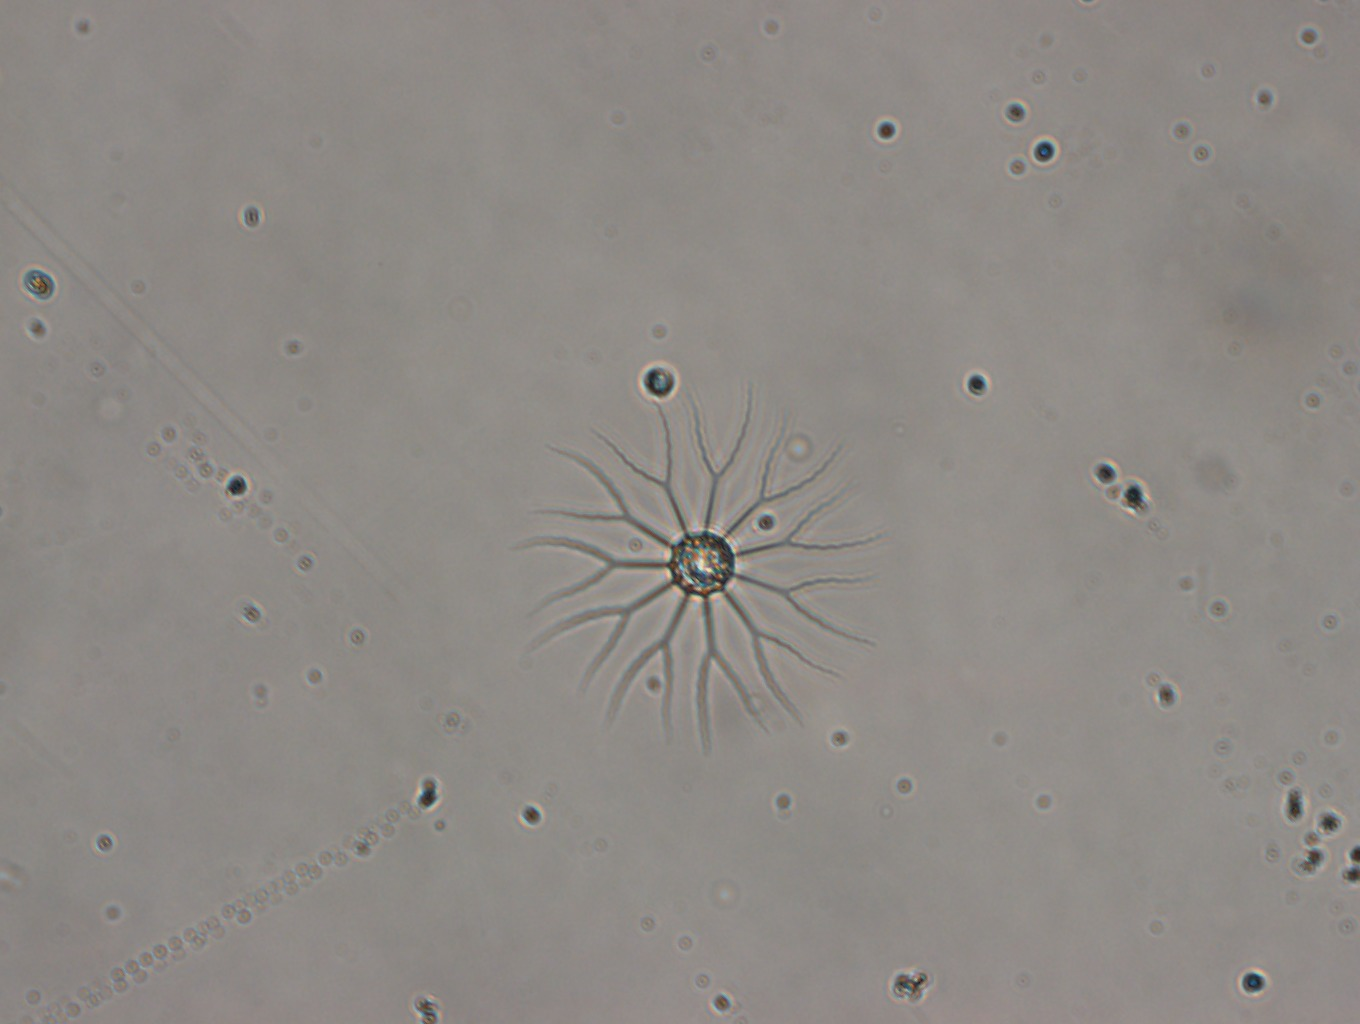bacteriastrum: (519, 385, 886, 746)
